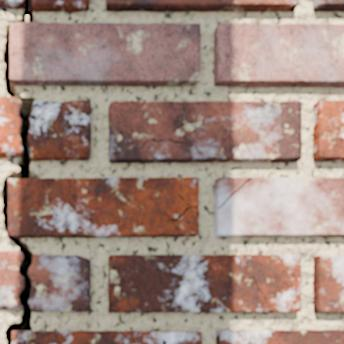brick: (11, 23, 199, 85), (109, 102, 301, 162), (9, 178, 198, 237), (109, 255, 300, 312), (214, 24, 343, 86), (215, 178, 343, 236), (13, 331, 201, 343), (106, 0, 297, 10), (313, 101, 343, 160), (217, 330, 343, 343), (314, 256, 343, 312), (313, 0, 343, 10)
broken_brick: (29, 99, 91, 161), (30, 253, 91, 312), (0, 96, 21, 158), (0, 250, 22, 309), (34, 0, 89, 12), (0, 0, 22, 9)
crack: (1, 0, 40, 343), (163, 202, 199, 234), (217, 177, 251, 209), (252, 275, 278, 312), (162, 338, 167, 343)
